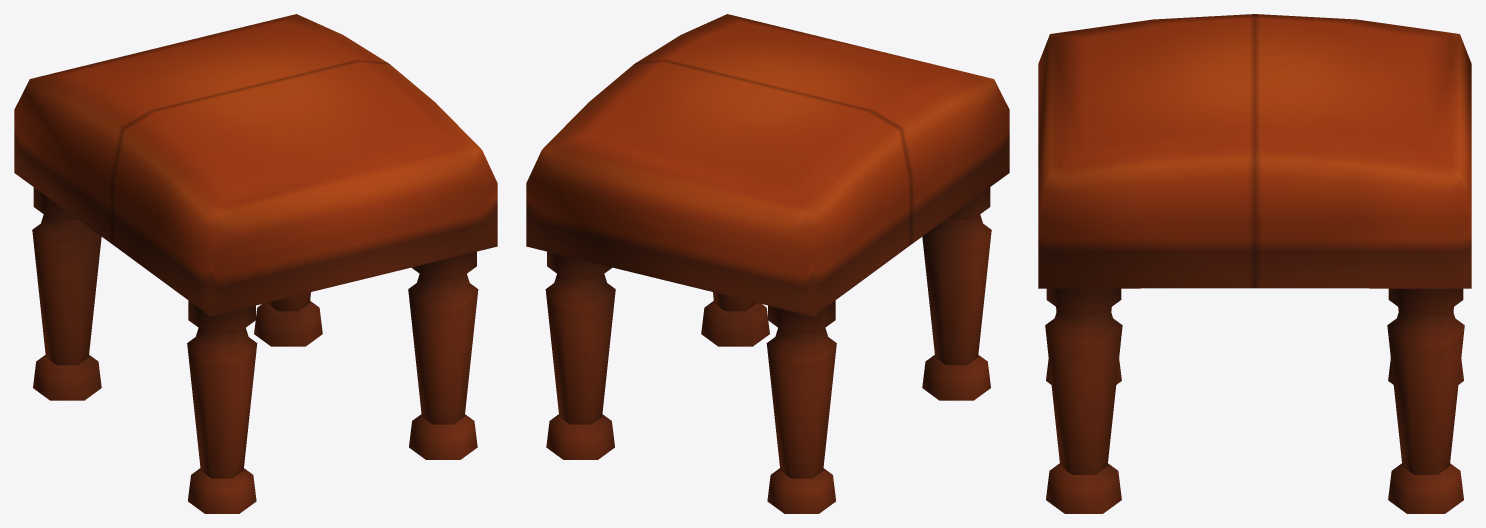
Rendered from Piano_chair.FBX.
3 renders of one model, left to right at view 1: azimuth 30°, elevation 25°; view 2: azimuth 150°, elevation 25°; view 3: azimuth 270°, elevation 25°, orthographic. The views are drawn at different scales.
Visible parts, largest first — view 1: Piano_chair; view 2: Piano_chair; view 3: Piano_chair.
Part boxes in pixels (x1=…): Piano_chair: x1=14, y1=14, x2=497, y2=513; Piano_chair: x1=526, y1=14, x2=1009, y2=513; Piano_chair: x1=1038, y1=14, x2=1471, y2=513.
Size of the model in its own units: 17.35 by 19.17 by 20.53.
